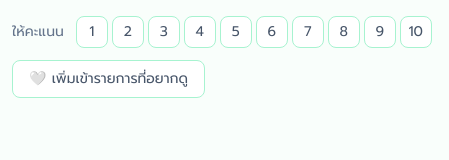
Test: login แล้วให้คะแนน 7 ต้องส่ง movieId คะแนน และ token ก่อนแสดงผลสำเร็จ
Step 1. Click the button "7" → click(308, 32), box [292,16,324,48]
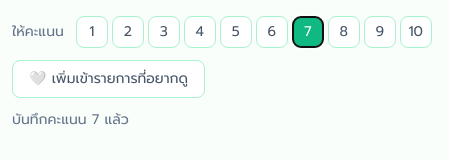
Expected: the text "บันทึกคะแนน 7 แล้ว" is shown, [12,109,129,130]
